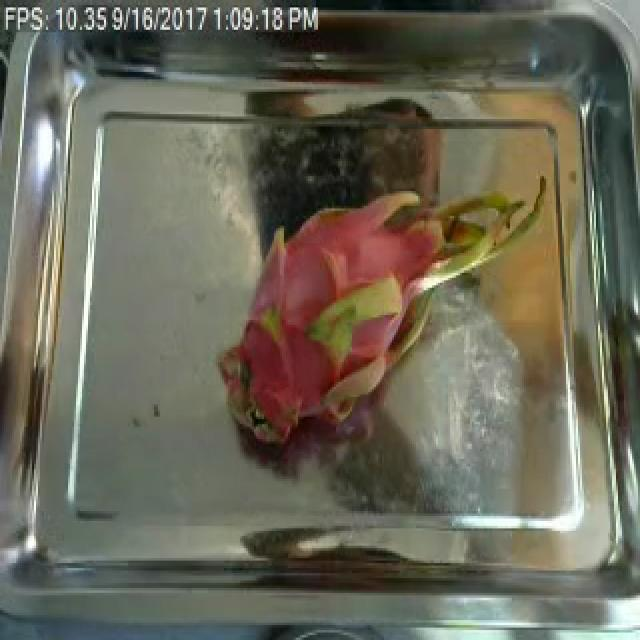fruit: (220, 154, 520, 461)
